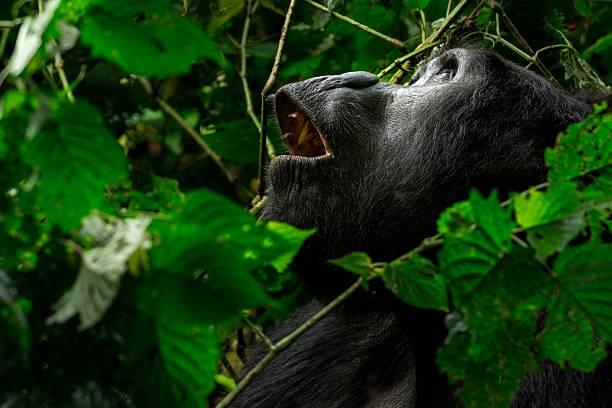goriile_montagne: (232, 5, 570, 403)
